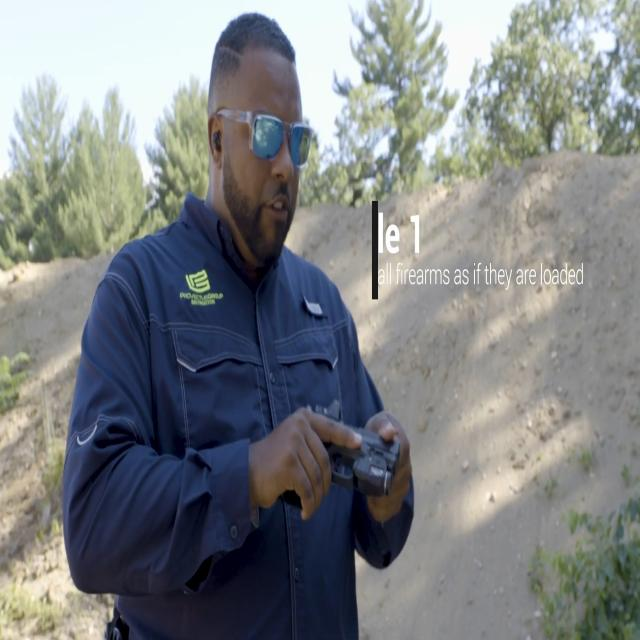Gun_Holder: (265, 368, 395, 524)
Person: (55, 6, 429, 640)
